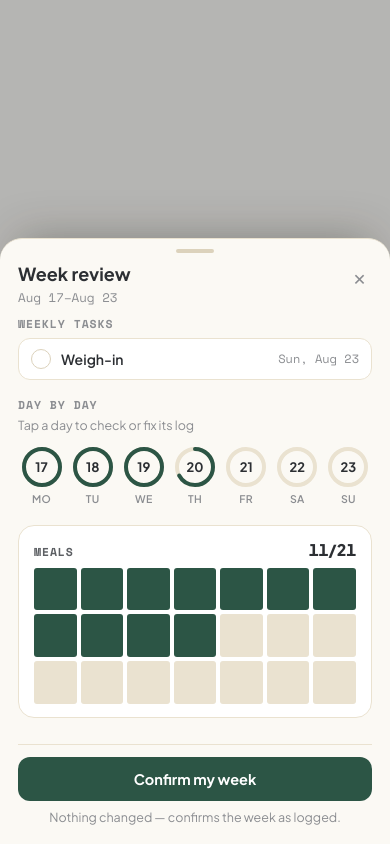
WeekReviewSheet › the back control returns to the week — day chips and rollups again, not the drill-in
Expected: the heading "DAY BY DAY" is shown, [18,396,98,413]
Click the list item "19 We" at (144, 476), box [120,443,167,509]
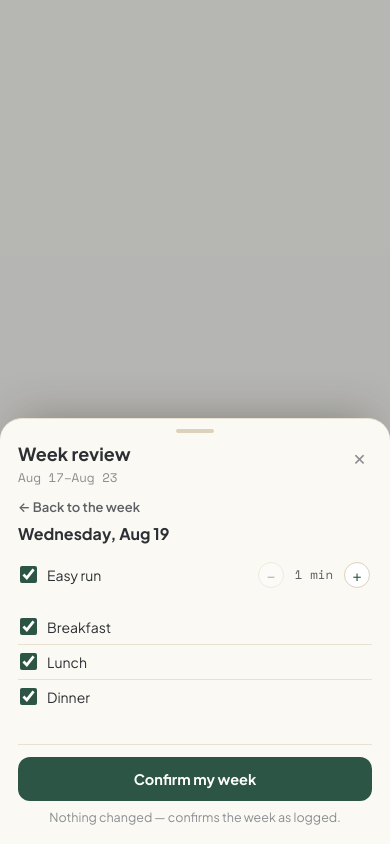
Expected: the button "← Back to the week" is shown
Click the button "← Back to the week" at (79, 506), box [18,496,140,516]
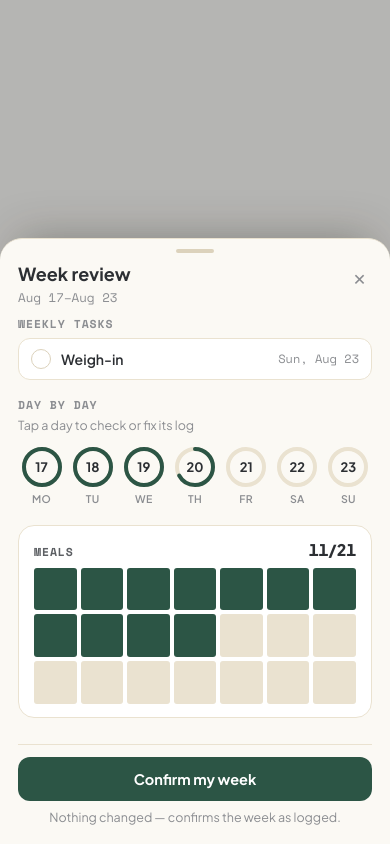
Expected: the heading "DAY BY DAY" is shown, [18,396,98,413]
Expected: the button "← Back to the week" is gone
